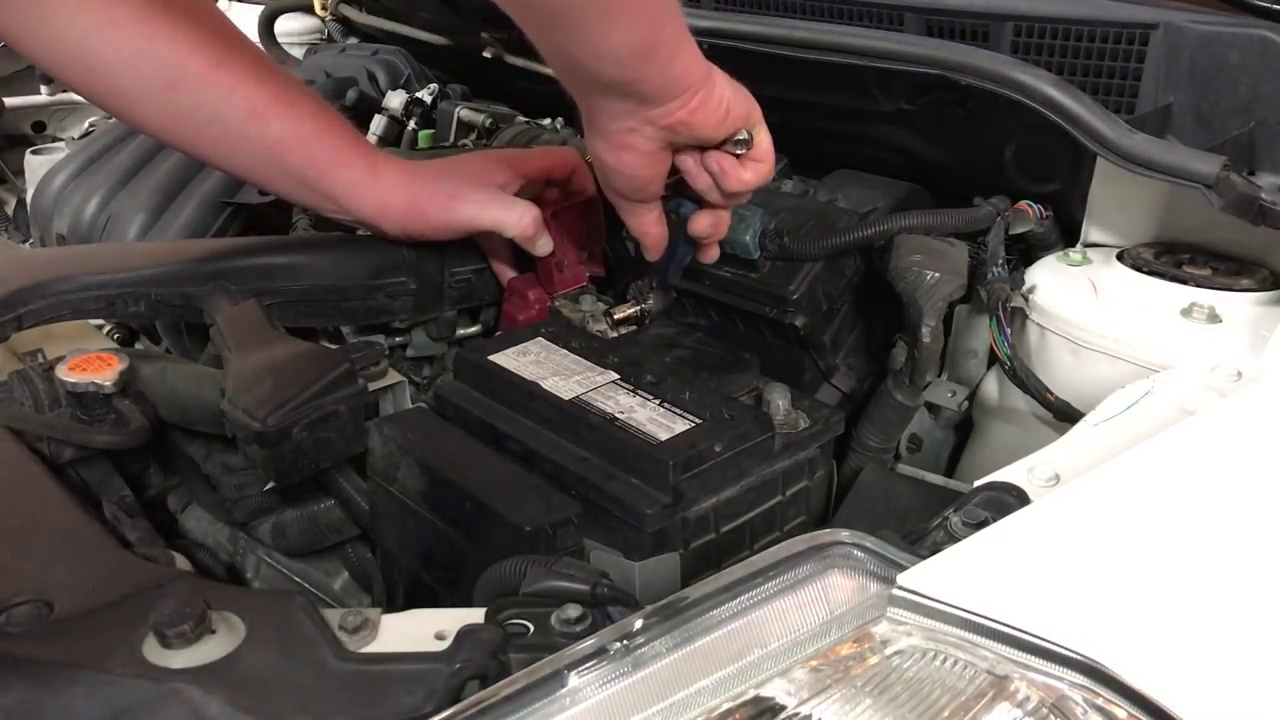battery: (457, 293, 832, 480)
neg_disconnected: (733, 348, 837, 452)
pos_touched: (471, 146, 694, 351)
